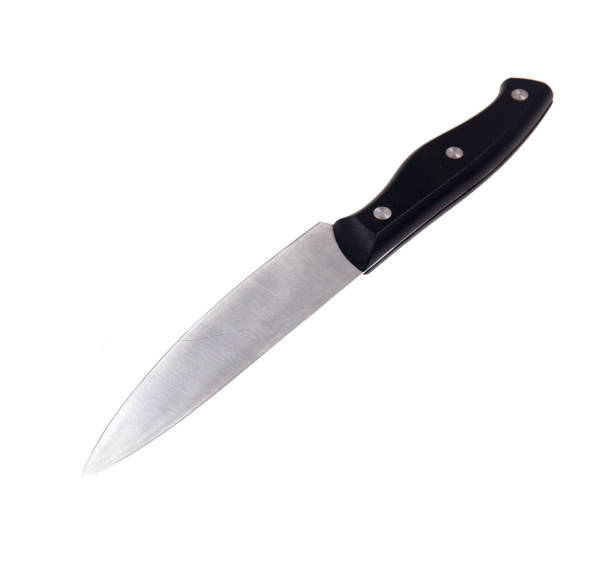knife: (73, 72, 558, 480)
